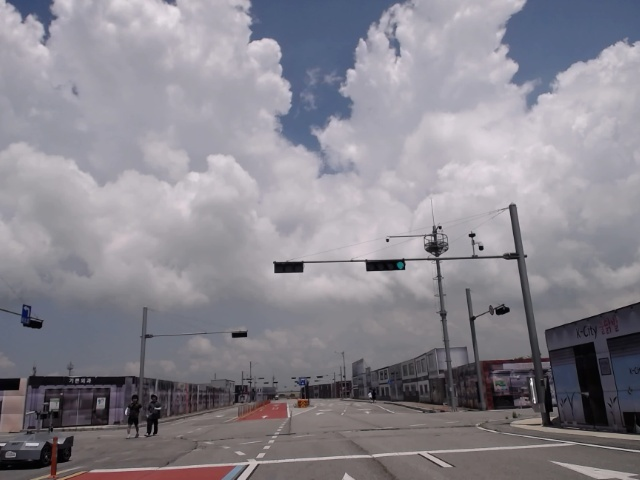straight_green_4: (366, 259, 407, 271)
